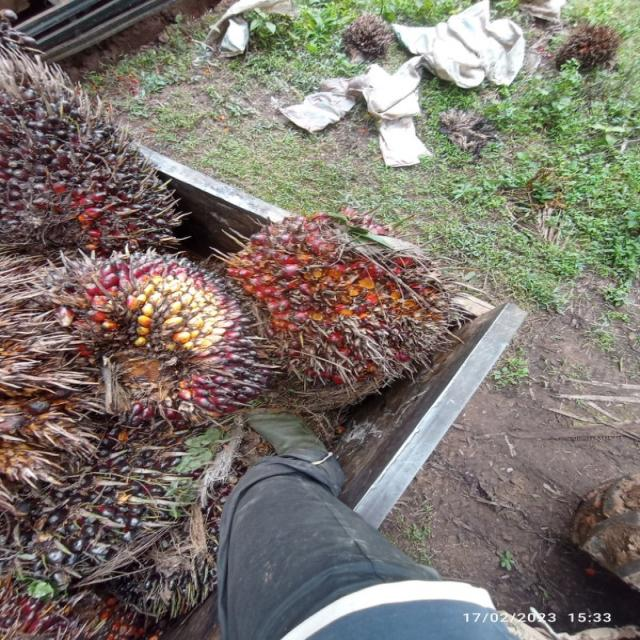fraksi 00: (0, 45, 213, 264), (41, 242, 269, 430)
fraksi 3: (232, 196, 502, 420)
